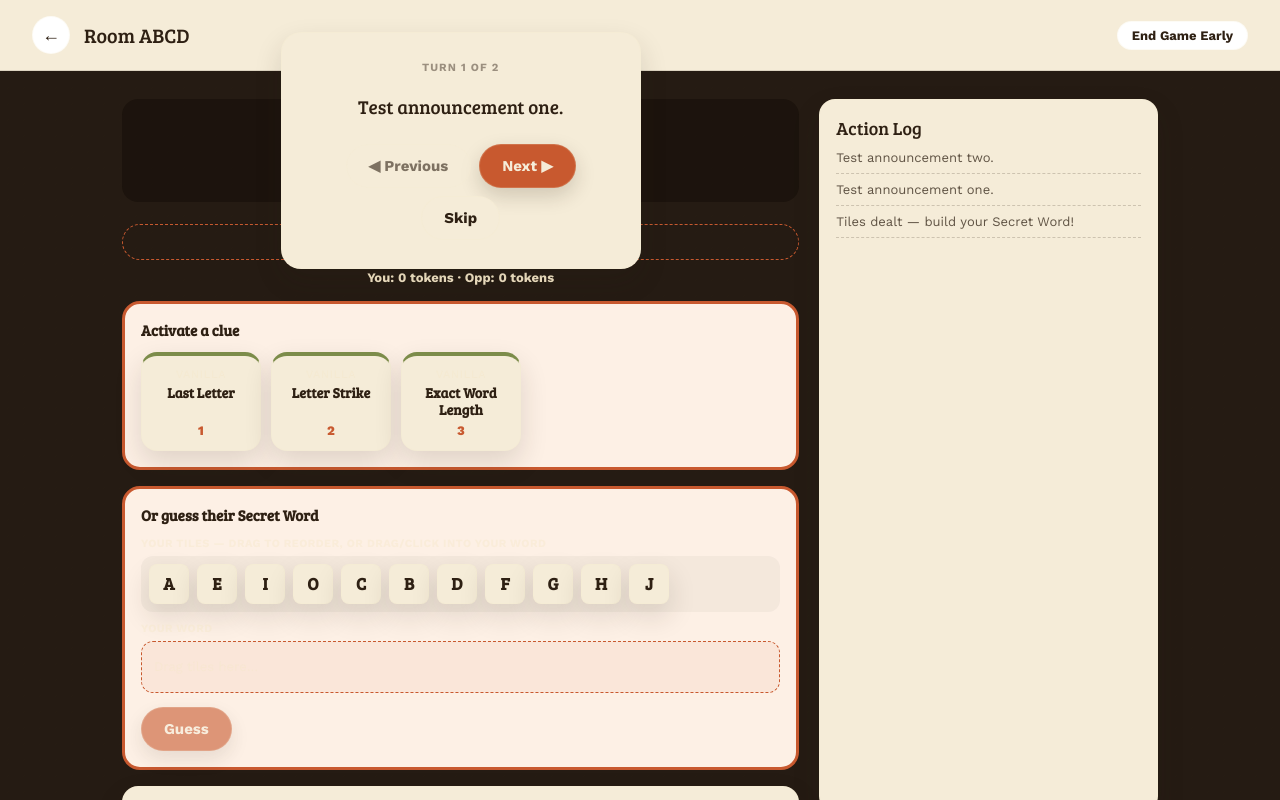
Test: WordyTableContainer › turn review overlay › Next steps forward and Done closes the overlay, persisting lastSeenSeq
The image size is (1280, 800).
expect the text "TURN 1 OF 2" is shown: met, box [422,61,499,74]
Click the button "Next ▶" at (528, 166), box [479,144,576,188]
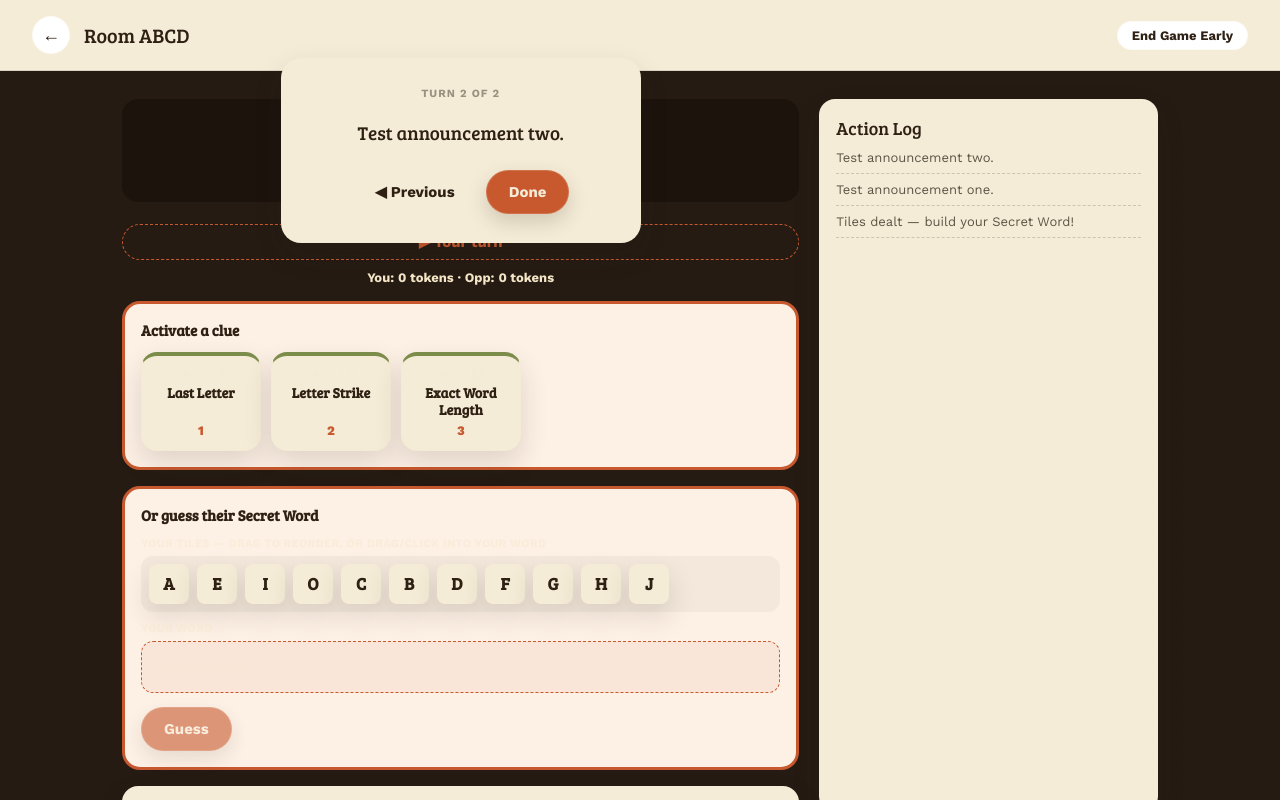
expect the text "TURN 2 OF 2" is shown: met, box [421,87,500,100]
expect the text "Test announcement two." is shown: met, box [357,120,564,145]
Click the button "Done" at (528, 192), box [486,170,569,214]
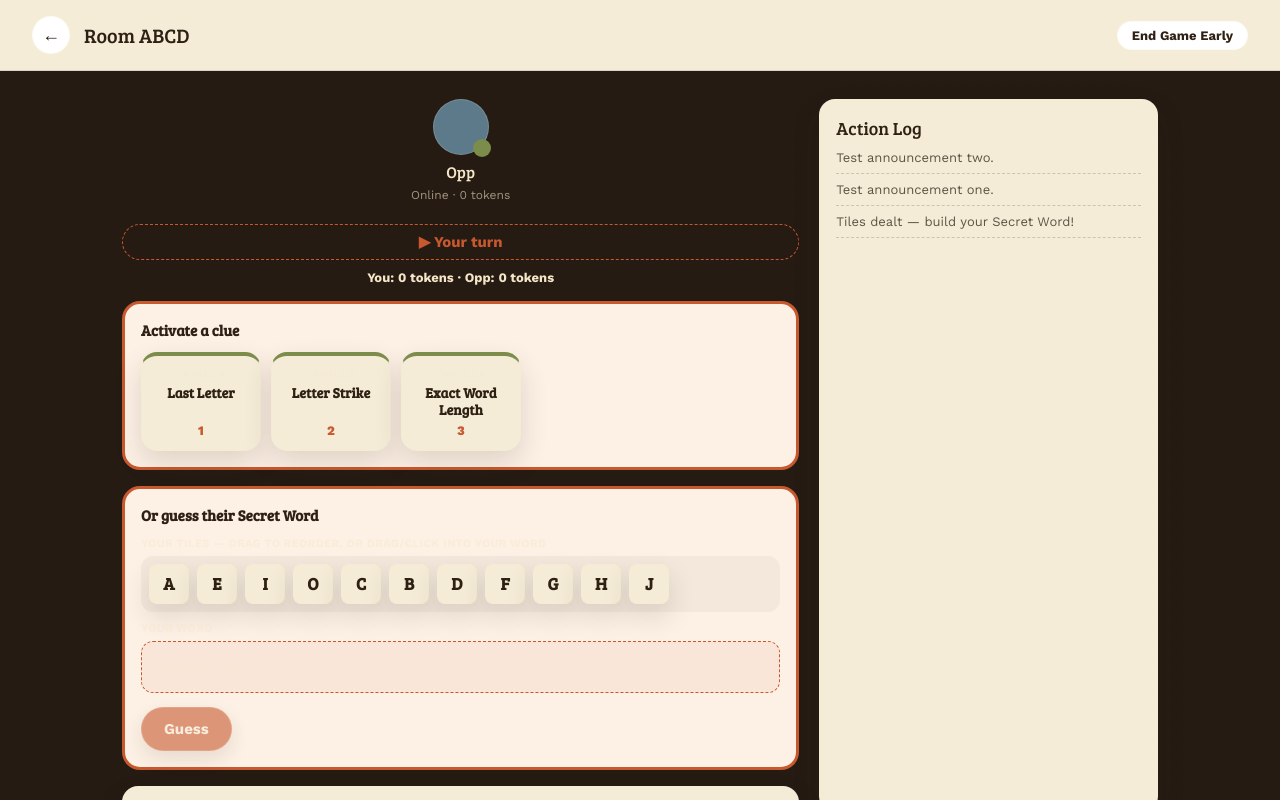
expect the text "TURN 2 OF 2" is gone: met
